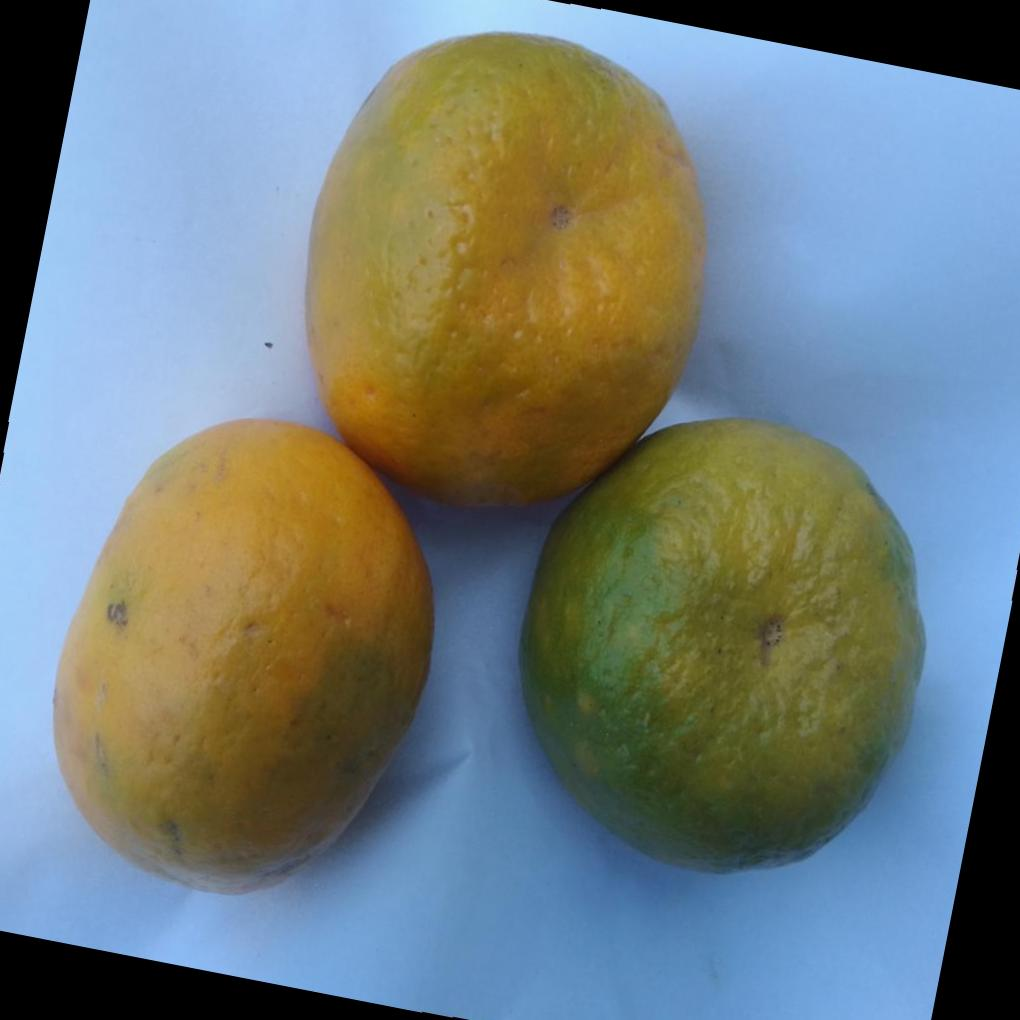FreshGuava: (51, 34, 926, 897)
